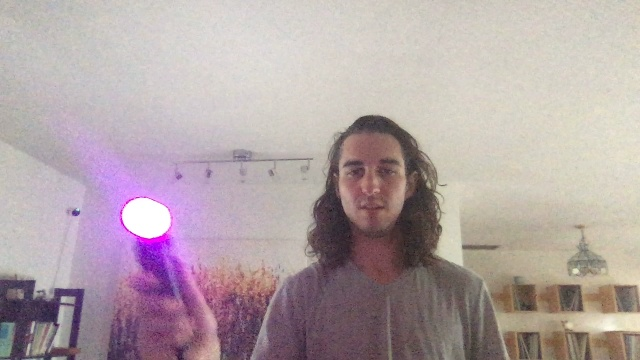wand: (121, 197, 172, 238)
